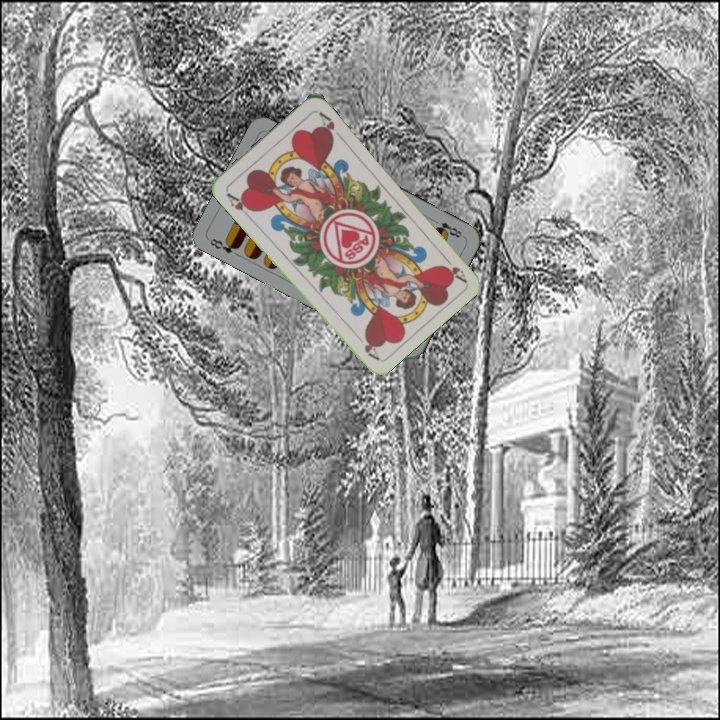E8: (431, 218, 466, 241), (206, 234, 242, 256)
HA: (222, 188, 257, 221), (438, 250, 469, 284)
